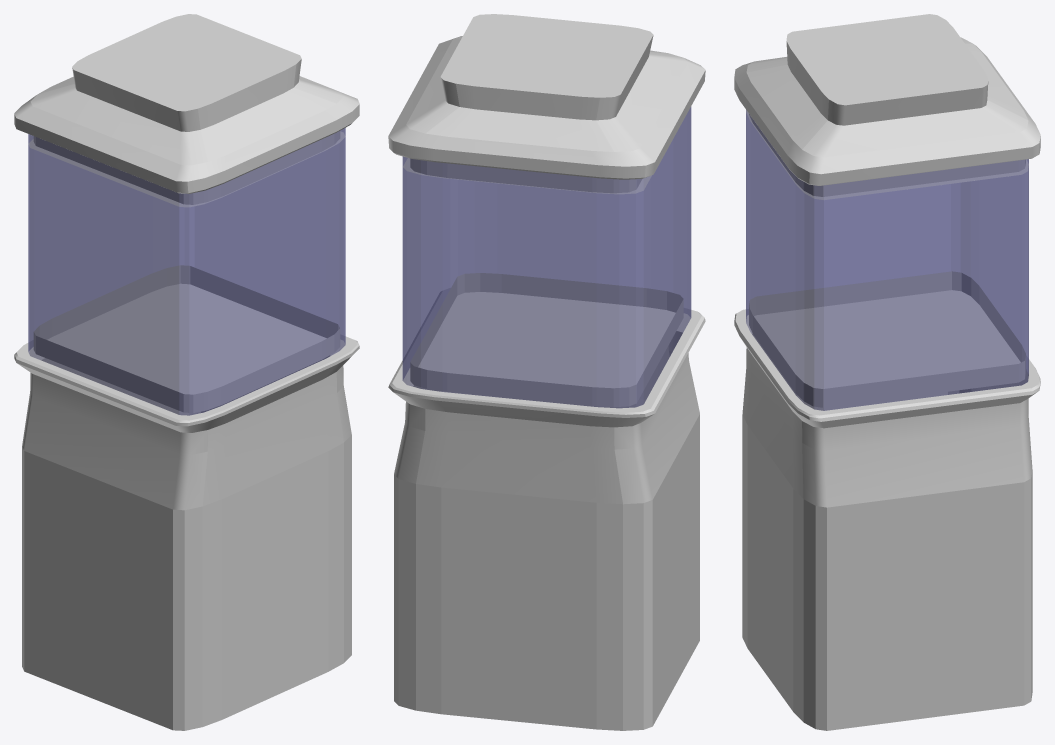
File: plantboxSmall.fbx
3 renders of one model, left to right at view 1: azimuth 30°, elevation 25°; view 2: azimuth 150°, elevation 25°; view 3: azimuth 270°, elevation 25°, orthographic. The views are drawn at different scales.
Parts seen in each view (by area): view 1: plantboxSmall; view 2: plantboxSmall; view 3: plantboxSmall.
Part boxes in pixels (x1,y1,x2,y2): plantboxSmall: [14, 14, 359, 730]; plantboxSmall: [388, 14, 705, 730]; plantboxSmall: [734, 14, 1040, 730].
Size of the model in its own units: 0.8957 by 1.86 by 0.8518.
